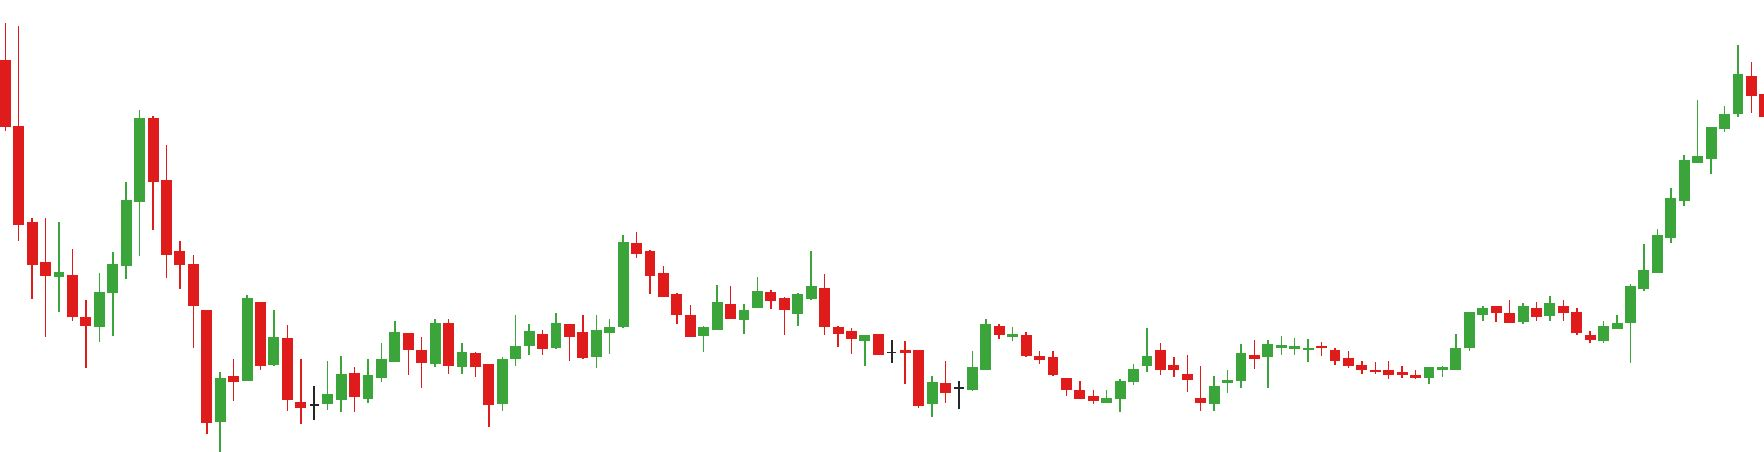buy: (413, 331, 511, 425)
sell: (40, 112, 173, 287)
